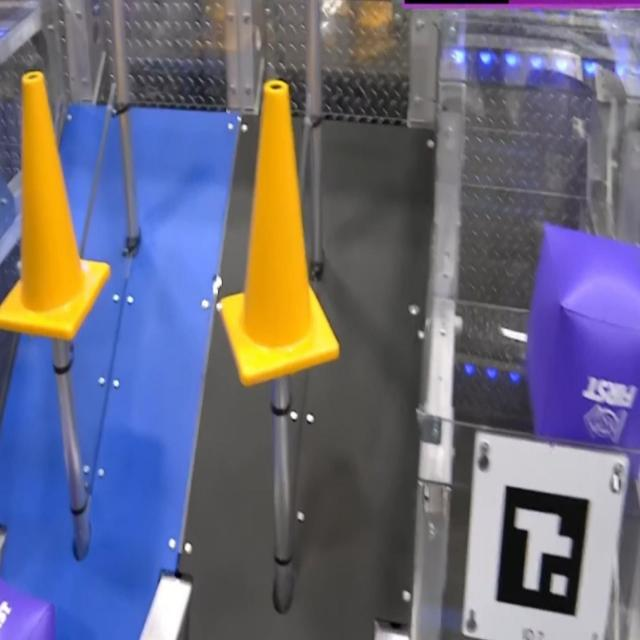frc_cone: (221, 82, 341, 384), (0, 70, 110, 343)
frc_cube: (528, 228, 640, 474), (0, 579, 66, 640)
